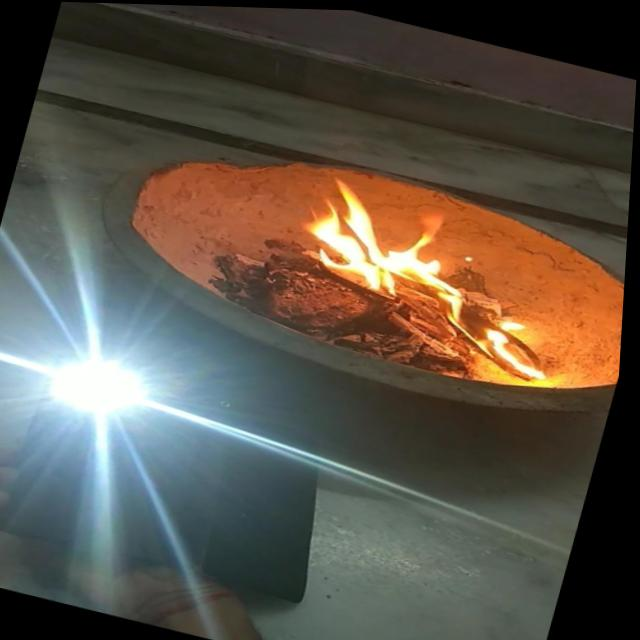fire: (267, 161, 595, 385)
